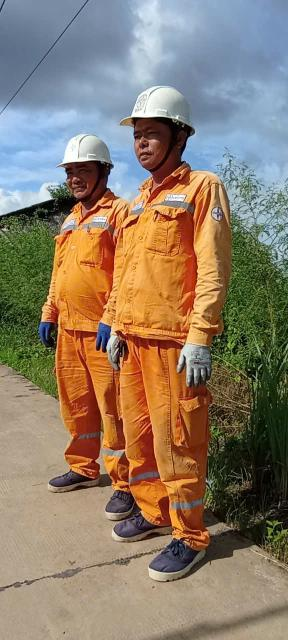gloves: (173, 336, 222, 391), (29, 312, 62, 356), (93, 307, 109, 355), (104, 334, 126, 367)
helmet: (111, 70, 209, 141), (50, 125, 115, 179)
shoes: (130, 525, 218, 581), (34, 456, 103, 500), (101, 507, 177, 538), (95, 477, 135, 518)
